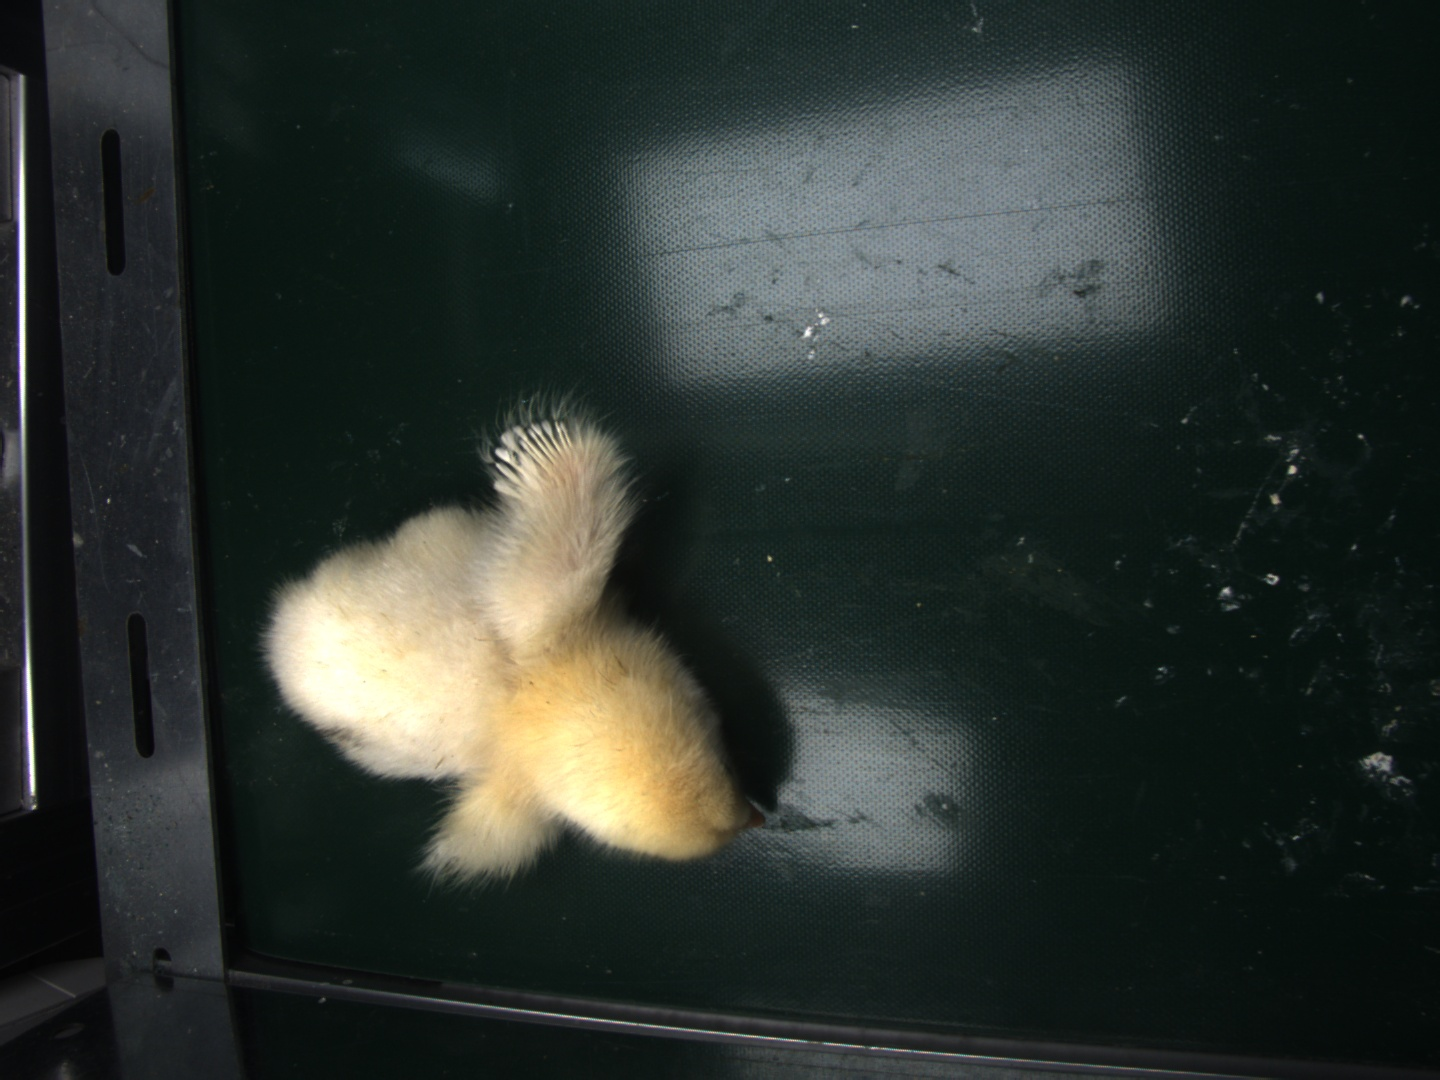male: (485, 410, 579, 511)
